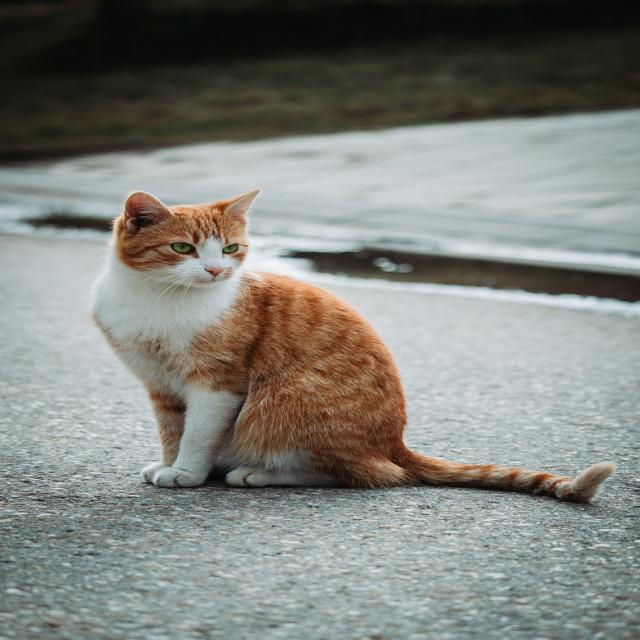cat: (61, 178, 618, 542)
